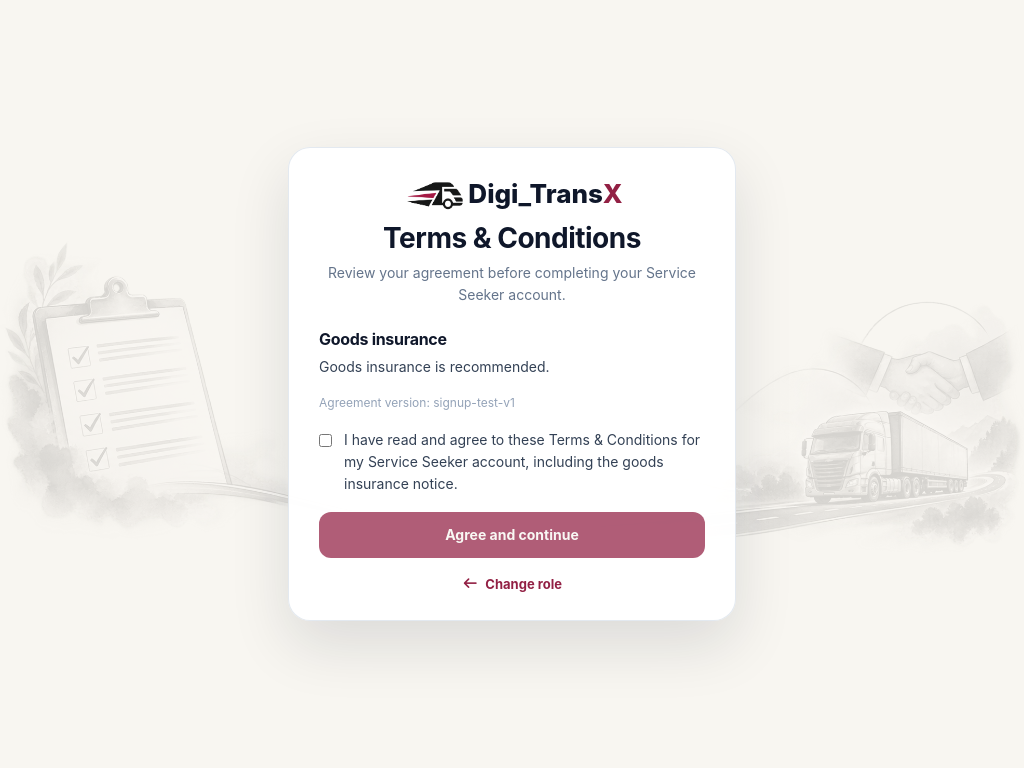
Test: loads the selected role agreement and requires a deliberate checkbox before details
Check: the button "Agree and continue" is disabled, box [319,512,705,558]
What coordinates should you click on to do the following:
click the checkbox
I would click on:
 (326, 440)
Its box is [319,434,332,446].
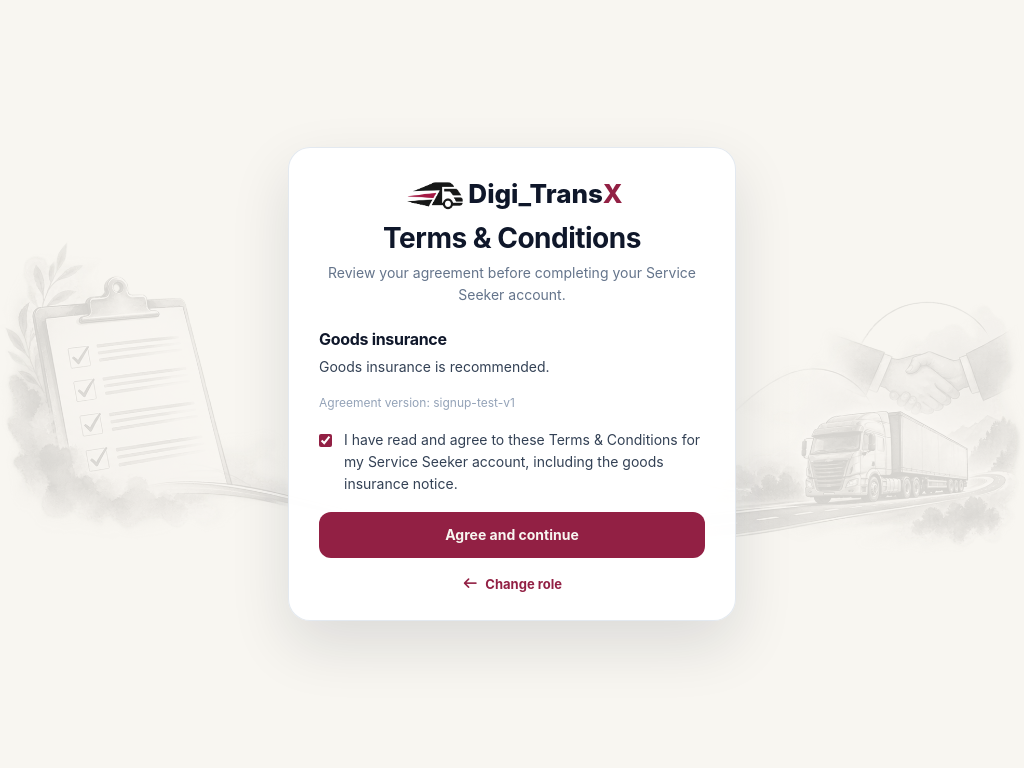
What coordinates should you click on to do the following:
click the button "Agree and continue"
I would click on:
 (512, 535)
Its box is [319,512,705,558].
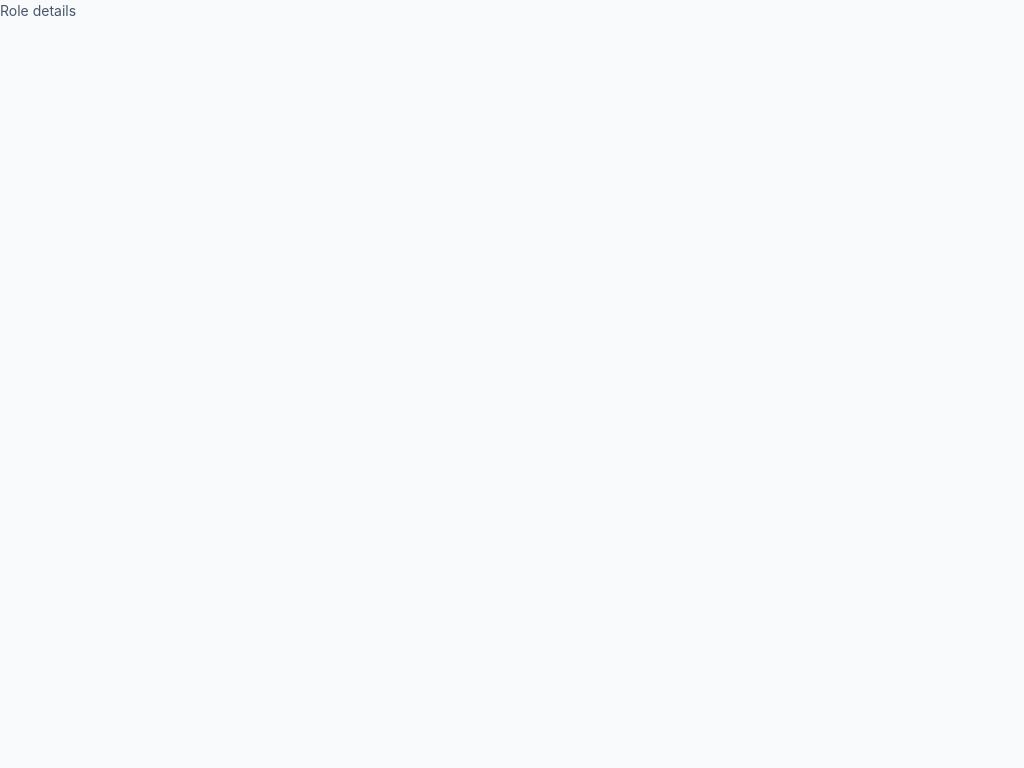
Check: the text "Role details" is shown, box [0,2,76,19]
